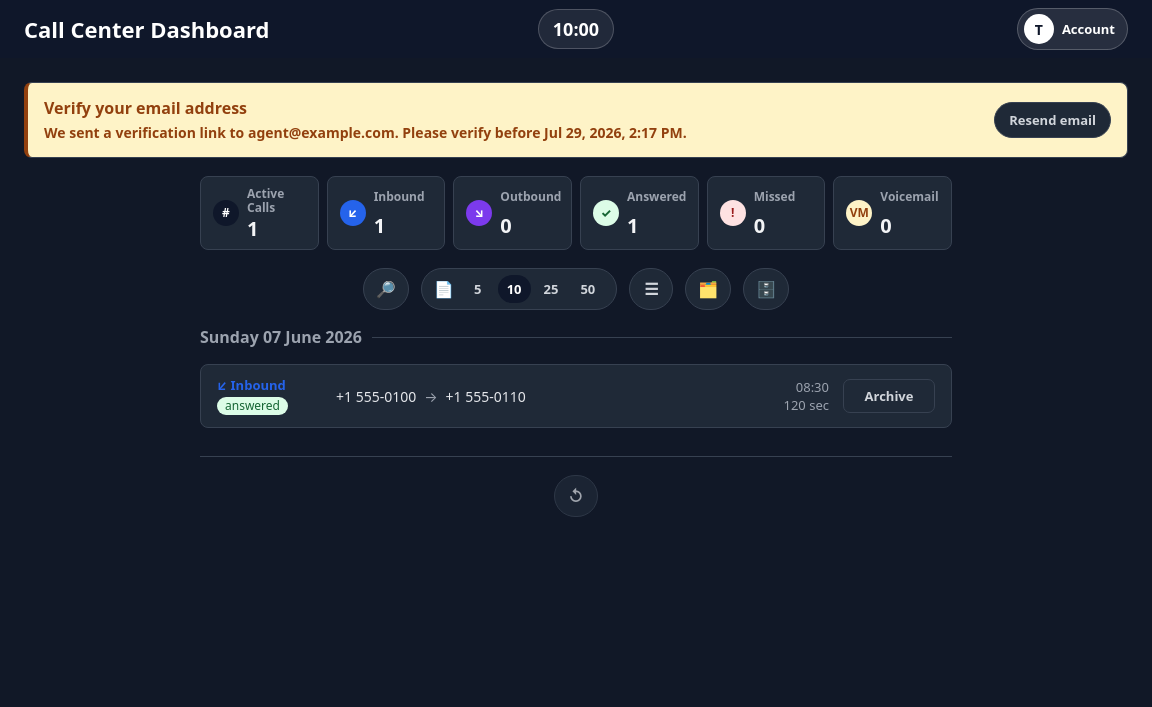
Test: App API-backed user flows › marks unfinished tutorial topics as not started in the account drawer
This screenshot has width=1152, height=707.
Expected: the text "+1 555-0100" is shown, [336,387,416,406]
Click the button with aria-label "Open account settings".
click(1072, 29)  # box [1017,8,1128,50]
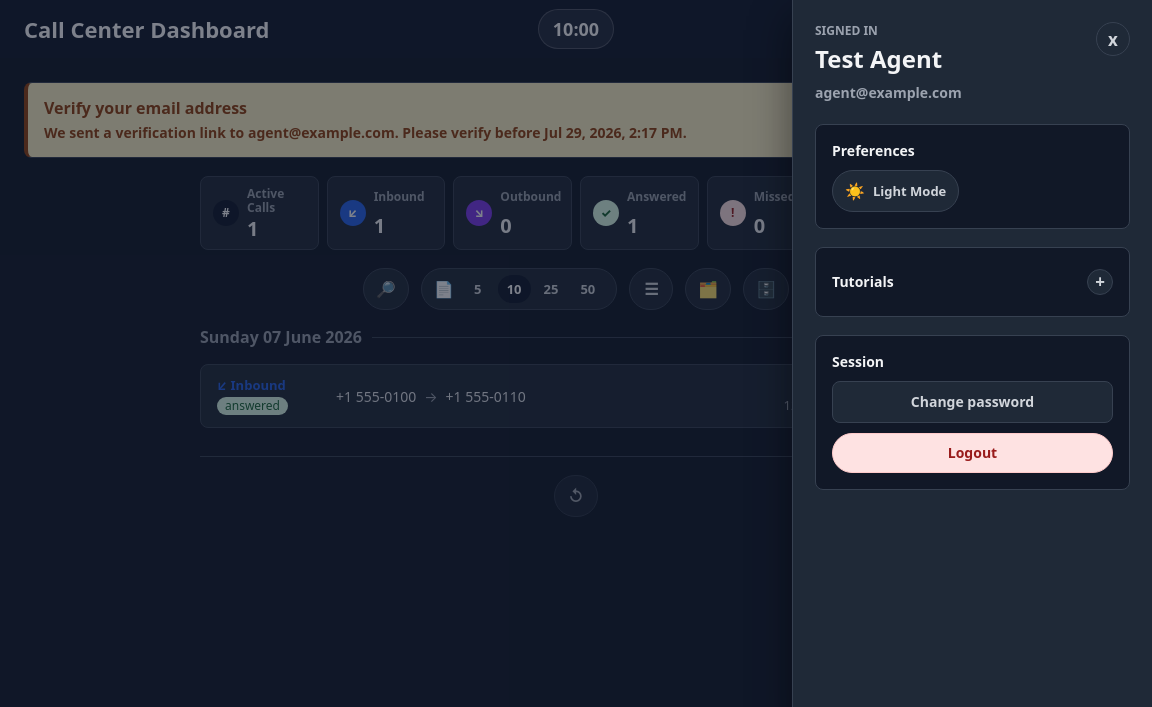
Click the button "Tutorials +".
click(863, 282)  # box [832,264,1113,300]
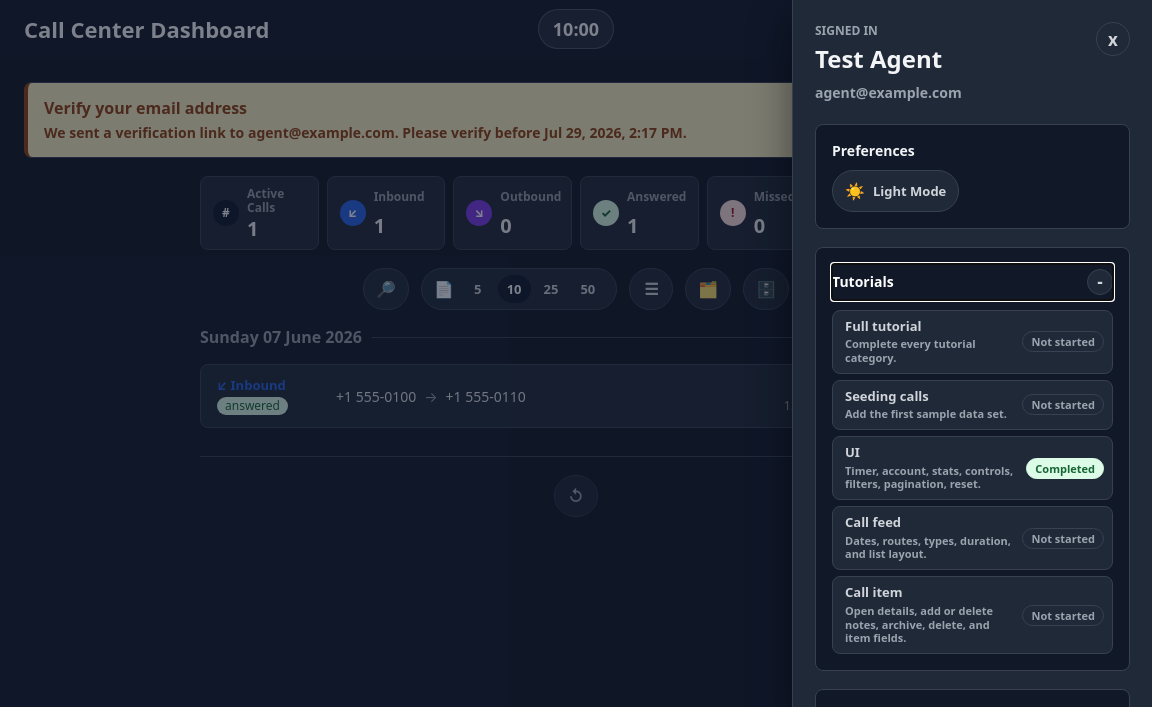
Now the button with aria-label "Full tutorial Not started" is shown, box [832,310,1113,374]
Now the button with aria-label "Seeding calls Not started" is shown, box [832,380,1113,430]
Now the button with aria-label "UI Completed" is shown, box [832,436,1113,500]
